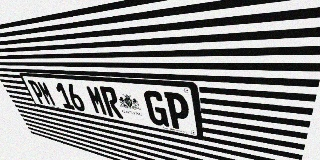1: (53, 82, 75, 110)
6: (64, 83, 87, 112)
G: (143, 90, 169, 127)
M: (85, 85, 109, 116), (36, 81, 57, 107)
P: (164, 92, 191, 131), (27, 80, 48, 105)
R: (99, 86, 124, 119)
